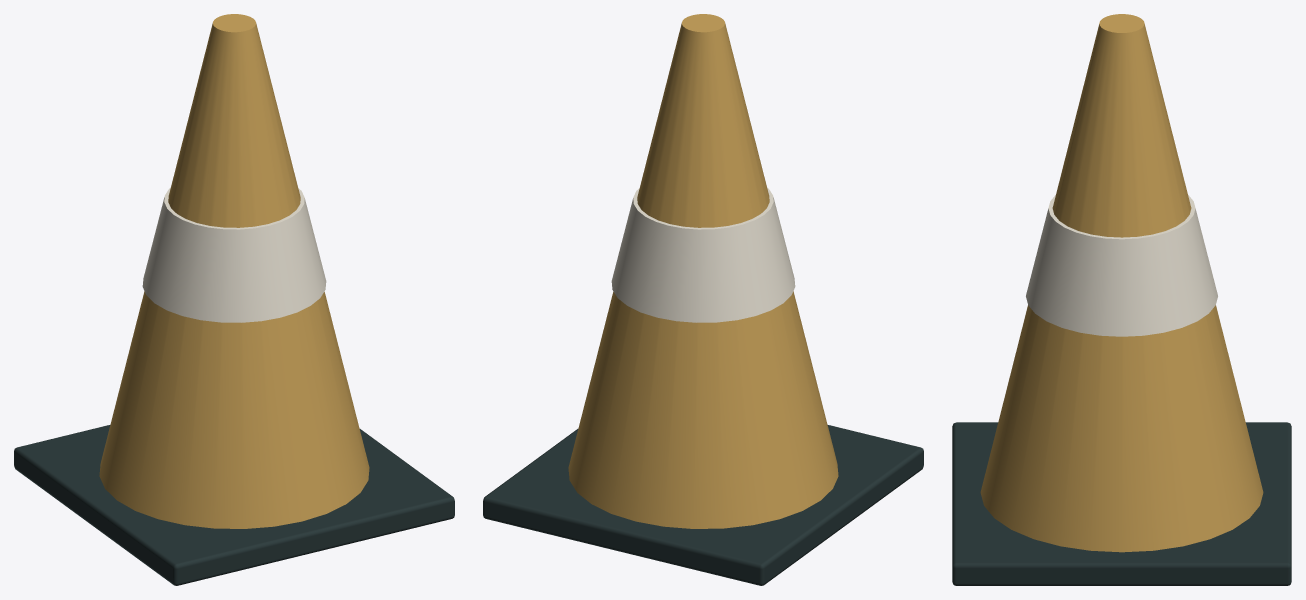
File: wp-cone-de-sport.glb
3 renders of one model, left to right at view 1: azimuth 30°, elevation 25°; view 2: azimuth 150°, elevation 25°; view 3: azimuth 270°, elevation 25°, orthographic. The views are drawn at different scales.
Parts seen in each view (by area): view 1: wp-cone-de-sport; view 2: wp-cone-de-sport; view 3: wp-cone-de-sport.
Boxes of the visible parts, x1=… form: wp-cone-de-sport: x1=14, y1=14, x2=454, y2=585; wp-cone-de-sport: x1=483, y1=14, x2=923, y2=585; wp-cone-de-sport: x1=952, y1=14, x2=1291, y2=585.
Size of the model in its own units: 0.25 by 0.4 by 0.25.
